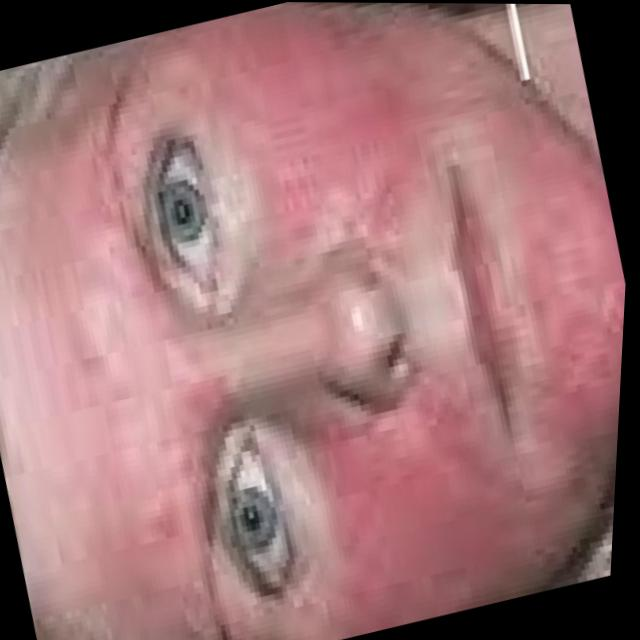Rosacea: (303, 414, 573, 640), (46, 269, 236, 565), (259, 5, 434, 210), (515, 164, 632, 413)
